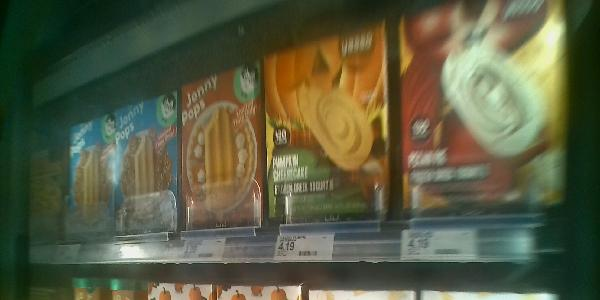icecream: (395, 4, 572, 215), (264, 23, 396, 223), (63, 85, 180, 237), (177, 58, 266, 237)
